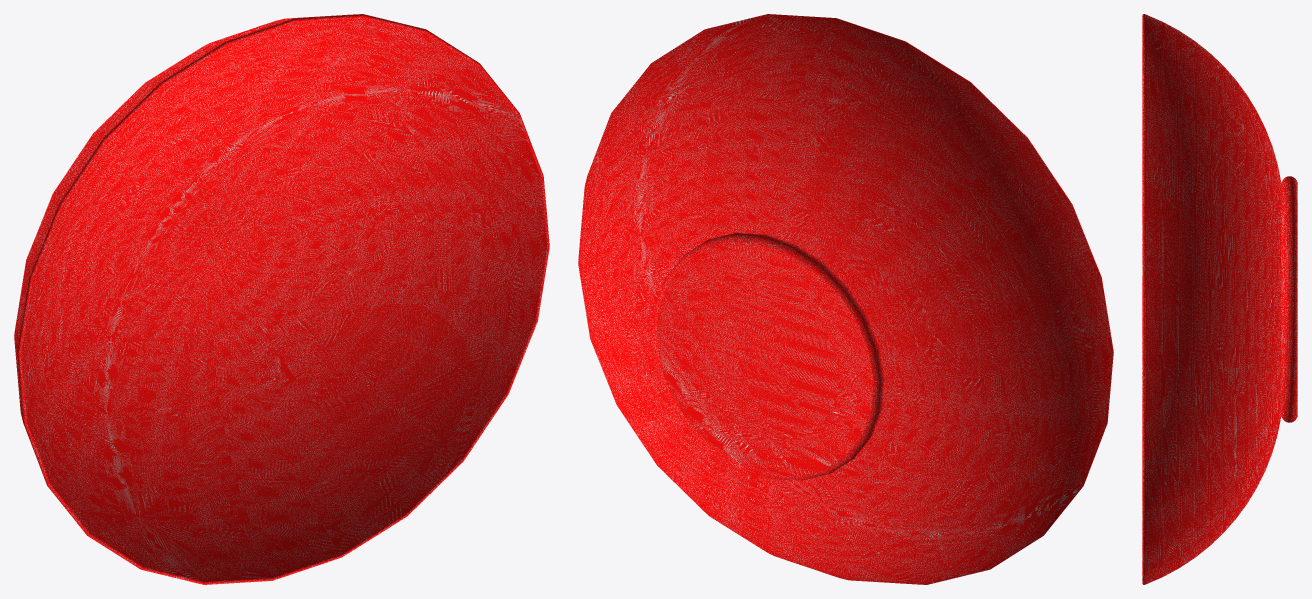
Rendered from model_scale.obj.
3 views of the same model, side by side, from view 1: azimuth 30°, elevation 25°; view 2: azimuth 150°, elevation 25°; view 3: azimuth 270°, elevation 25° (orthographic). The views are drawn at different scales.
Visible parts, largest first — view 1: mesh1_mesh1-geometry; view 2: mesh1_mesh1-geometry; view 3: mesh1_mesh1-geometry.
Part boxes in pixels (<box>): mesh1_mesh1-geometry: <box>14,14,549,584</box>; mesh1_mesh1-geometry: <box>578,14,1113,584</box>; mesh1_mesh1-geometry: <box>1142,14,1297,584</box>.
Bounding box in the file's own units: 0.1641 × 0.1641 × 0.0447.
